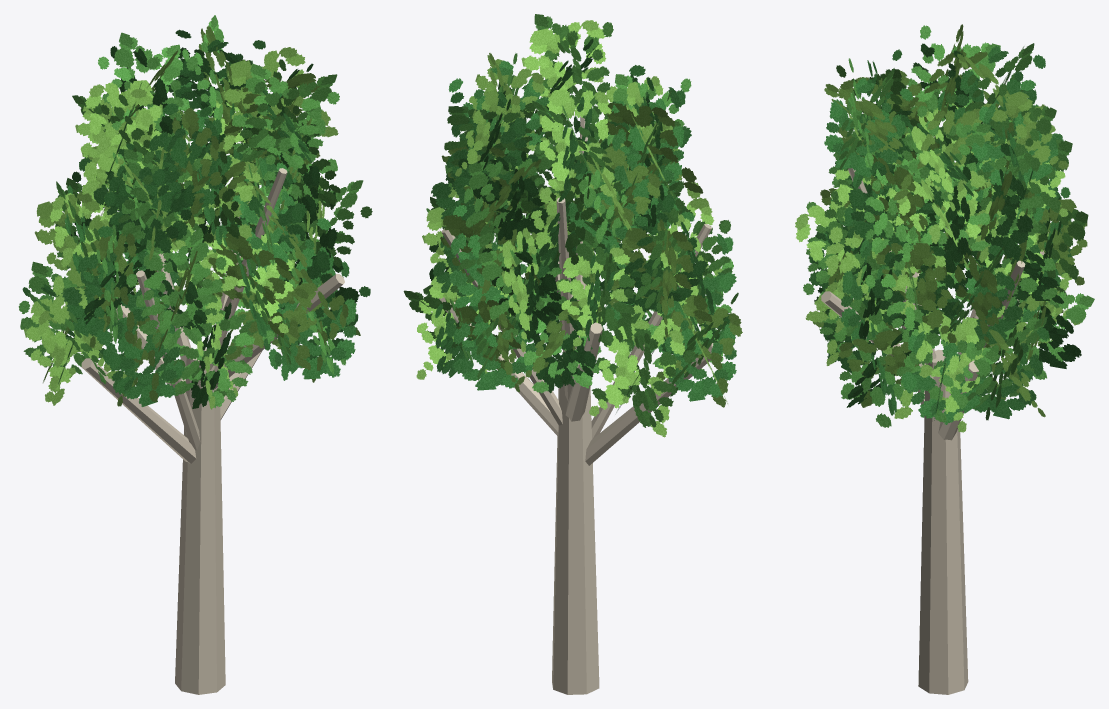
File: CottonWood.glb
3 views of the same model, side by side, from view 1: azimuth 30°, elevation 25°; view 2: azimuth 150°, elevation 25°; view 3: azimuth 270°, elevation 25° (orthographic).
Parts seen in each view (by area): view 1: Trunk, FoliageCard_15_03, FoliageCard_34_03, FoliageCard_16_00, FoliageCard_33_03, FoliageCard_32_00, FoliageCard_16_03, FoliageCard_06_03, FoliageCard_34_00, FoliageCard_14_03, FoliageCard_17_03, FoliageCard_32_03 (+60 smaller); view 2: Trunk, FoliageCard_31_01, FoliageCard_04_01, FoliageCard_02_01, FoliageCard_34_01, FoliageCard_13_01, FoliageCard_05_01, FoliageCard_32_01, FoliageCard_04_00, FoliageCard_13_00, FoliageCard_32_00, FoliageCard_05_00 (+61 smaller); view 3: Trunk, FoliageCard_00_02, FoliageCard_34_02, FoliageCard_19_01, FoliageCard_20_01, FoliageCard_00_03, FoliageCard_09_01, FoliageCard_30_02, FoliageCard_30_03, FoliageCard_00_01, FoliageCard_28_03, FoliageCard_28_02 (+61 smaller).
Part boxes in pixels (<box>): Trunk: <box>175,348,225,694</box>; FoliageCard_15_03: <box>62,226,159,346</box>; FoliageCard_34_03: <box>232,64,339,170</box>; FoliageCard_16_00: <box>126,228,224,350</box>; FoliageCard_33_03: <box>138,103,232,214</box>; FoliageCard_32_00: <box>82,80,162,194</box>; FoliageCard_16_03: <box>136,239,226,343</box>; FoliageCard_06_03: <box>103,306,184,406</box>; FoliageCard_34_00: <box>236,74,337,161</box>; FoliageCard_14_03: <box>34,192,138,289</box>; FoliageCard_17_03: <box>208,233,292,337</box>; FoliageCard_32_03: <box>75,88,167,188</box>; Trunk: <box>552,357,599,694</box>; FoliageCard_31_01: <box>539,90,616,197</box>; FoliageCard_04_01: <box>589,319,685,437</box>; FoliageCard_02_01: <box>453,295,539,390</box>; FoliageCard_34_01: <box>521,20,617,132</box>; FoliageCard_13_01: <box>556,247,649,346</box>; FoliageCard_05_01: <box>663,298,736,401</box>; FoliageCard_32_01: <box>612,98,684,198</box>; FoliageCard_04_00: <box>591,312,695,427</box>; FoliageCard_13_00: <box>562,229,651,346</box>; FoliageCard_32_00: <box>605,103,703,193</box>; FoliageCard_05_00: <box>656,295,742,407</box>; Trunk: <box>918,349,968,694</box>; FoliageCard_00_02: <box>894,311,985,432</box>; FoliageCard_34_02: <box>824,77,912,177</box>; FoliageCard_19_01: <box>875,243,956,342</box>; FoliageCard_20_01: <box>964,143,1033,260</box>; FoliageCard_00_03: <box>900,312,990,424</box>; FoliageCard_09_01: <box>839,319,940,427</box>; FoliageCard_30_02: <box>971,91,1068,188</box>; FoliageCard_30_03: <box>971,79,1063,190</box>; FoliageCard_00_01: <box>900,332,999,422</box>; FoliageCard_28_03: <box>864,150,930,254</box>; FoliageCard_28_02: <box>848,161,946,249</box>.
Size of the model in its own units: 4.95 by 9.24 by 4.11.
5 materials, 3 textured.
